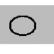no answer: (8, 14, 37, 37)
